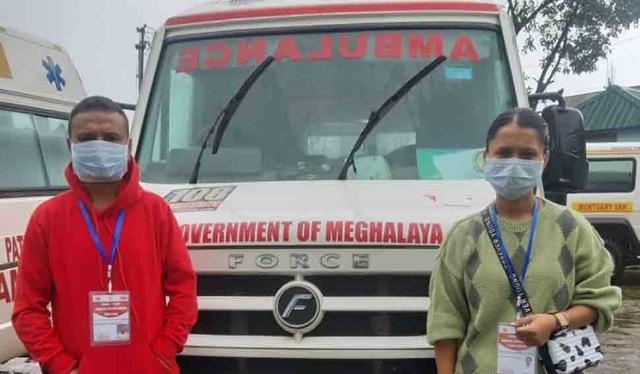ambulance: (116, 0, 558, 374)
